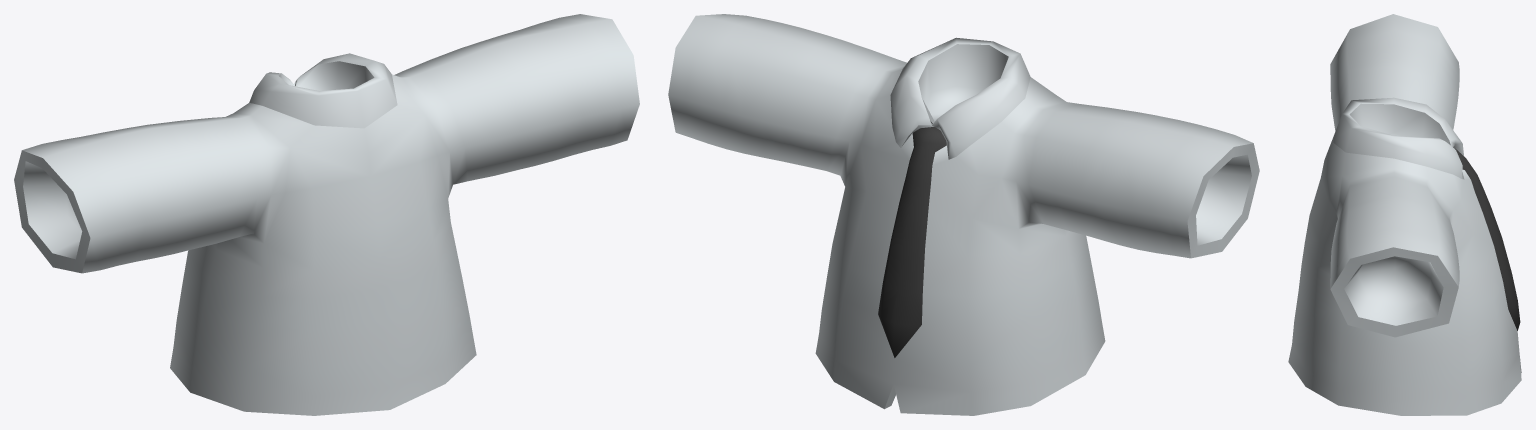
File: Top_24.fbx
3 renders of one model, left to right at view 1: azimuth 30°, elevation 25°; view 2: azimuth 150°, elevation 25°; view 3: azimuth 270°, elevation 25°, orthographic. The views are drawn at different scales.
Parts seen in each view (by area): view 1: Top_24; view 2: Top_24; view 3: Top_24.
Part boxes in pixels (x1,y1,x2,y2): Top_24: [14, 14, 639, 415]; Top_24: [668, 14, 1259, 415]; Top_24: [1288, 14, 1521, 415].
Size of the model in its own units: 97.11 by 51.29 by 41.04.
